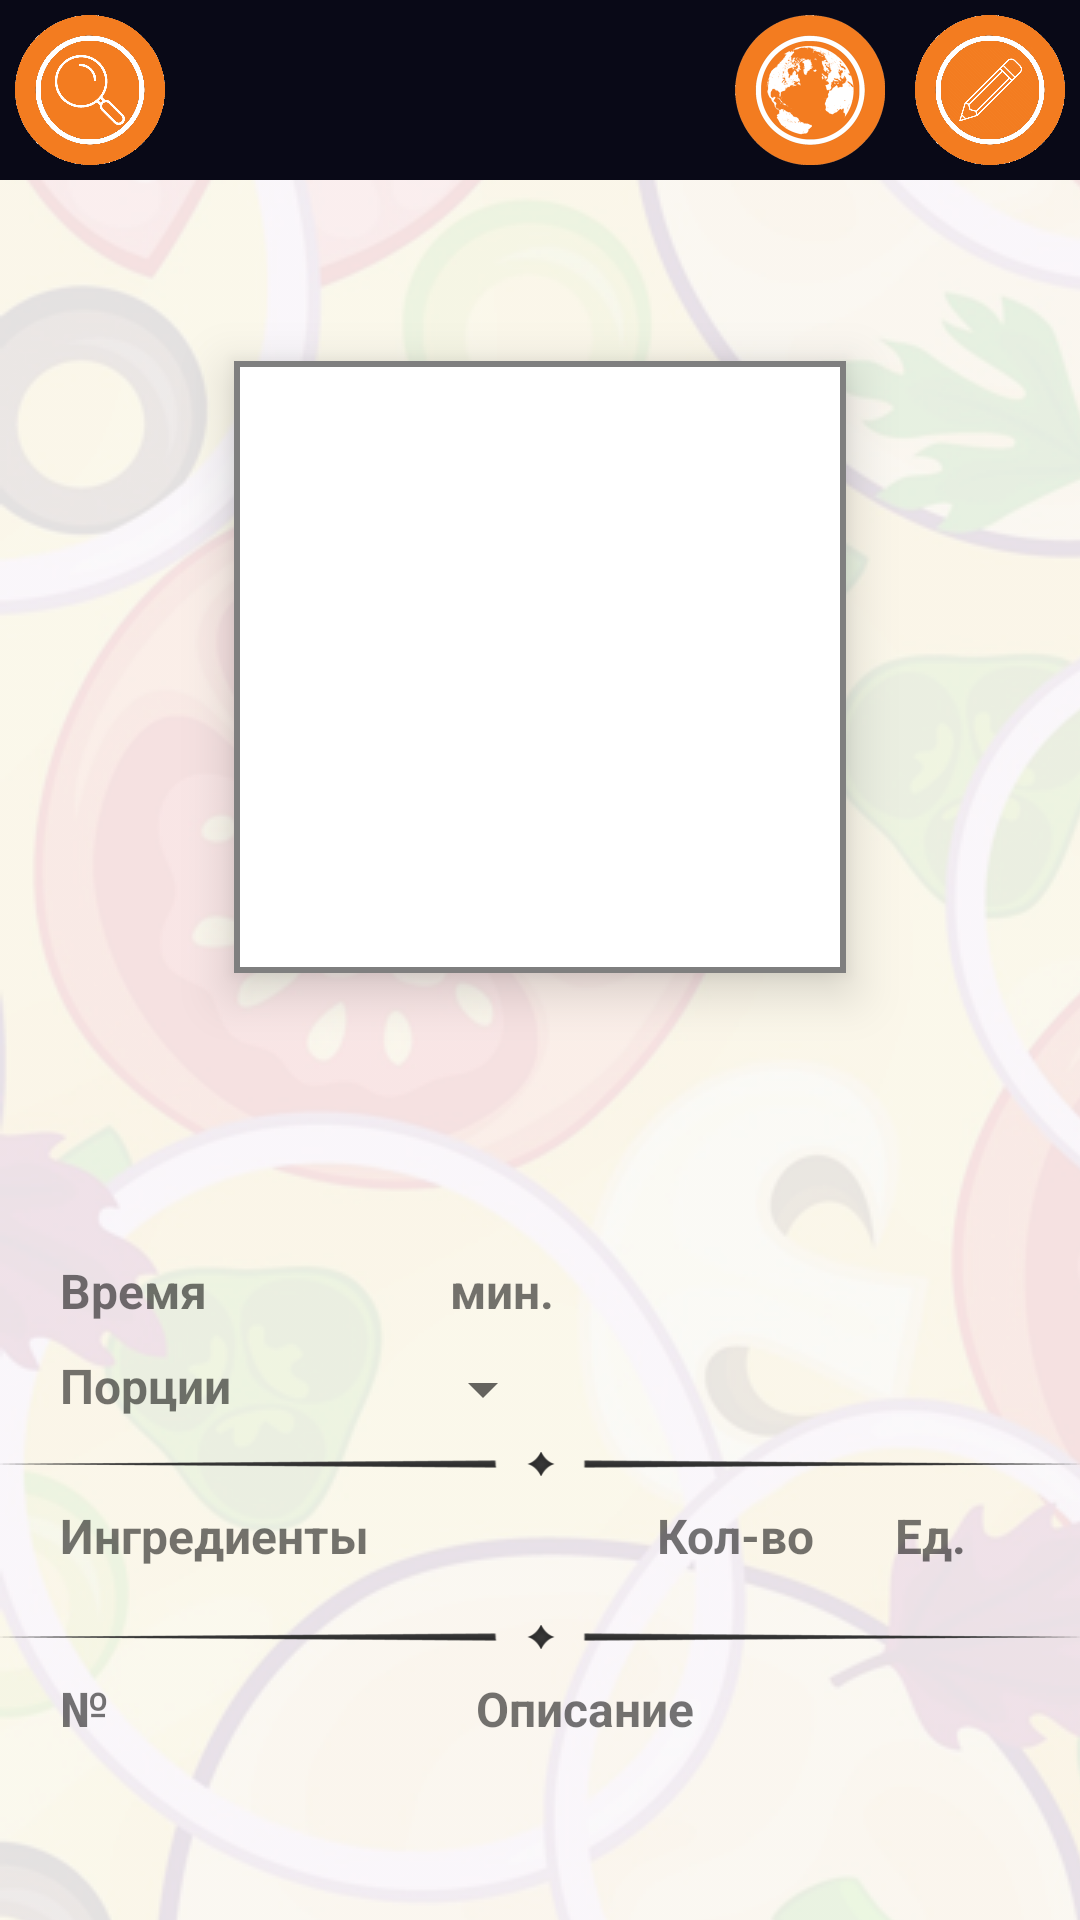

Locate icon controls on the screen. Image size 1080x1920, boxes as rect(x1, y1, x2, y2).
tullbar search: rect(15, 15, 165, 165)
